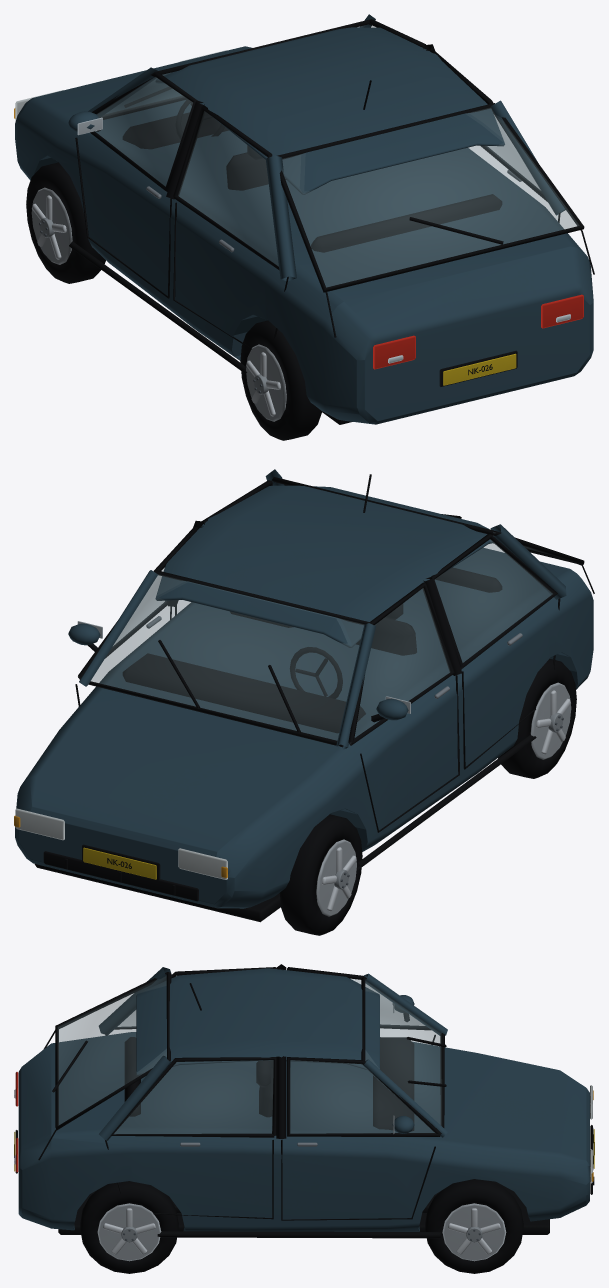
File: civilian_hatchback_lod.glb
3 renders of one model, top to bottom at view 1: azimuth 30°, elevation 25°; view 2: azimuth 150°, elevation 25°; view 3: azimuth 270°, elevation 25°, orthographic. The views are drawn at different scales.
Visible parts, largest first — view 1: HatchbackBodySurface, Wheel_LRSurface, Wheel_LFSurface; view 2: HatchbackBodySurface, Wheel_LFSurface, Wheel_LRSurface; view 3: HatchbackBodySurface, Wheel_RFSurface, Wheel_RRSurface.
Boxes of the visible parts, box(x1,y1,x2,y2) form: HatchbackBodySurface: box(14, 14, 594, 424); Wheel_LRSurface: box(240, 320, 321, 440); Wheel_LFSurface: box(26, 162, 105, 283); HatchbackBodySurface: box(14, 469, 594, 922); Wheel_LFSurface: box(279, 814, 362, 935); Wheel_LRSurface: box(498, 658, 576, 778); HatchbackBodySurface: box(14, 964, 594, 1238); Wheel_RFSurface: box(425, 1179, 523, 1273); Wheel_RRSurface: box(80, 1181, 178, 1273).
Bounding box in the file's own units: 2.01 × 1.68 × 3.72.
4 materials, 3 textured.
